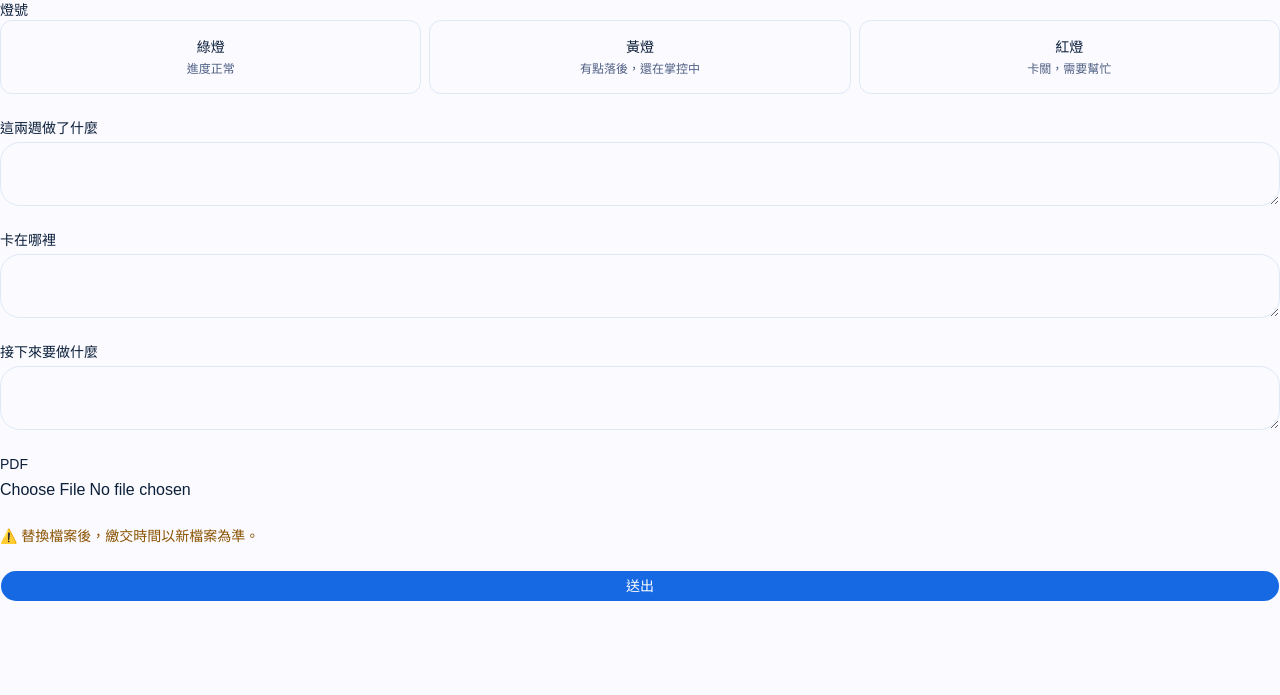
Test: ProgressForm › 沒填齊時按『送出』，各欄顯示錯誤，不呼叫 requestPdfUpload
Click the button "送出" at [640, 586], box [0,570,1279,602]
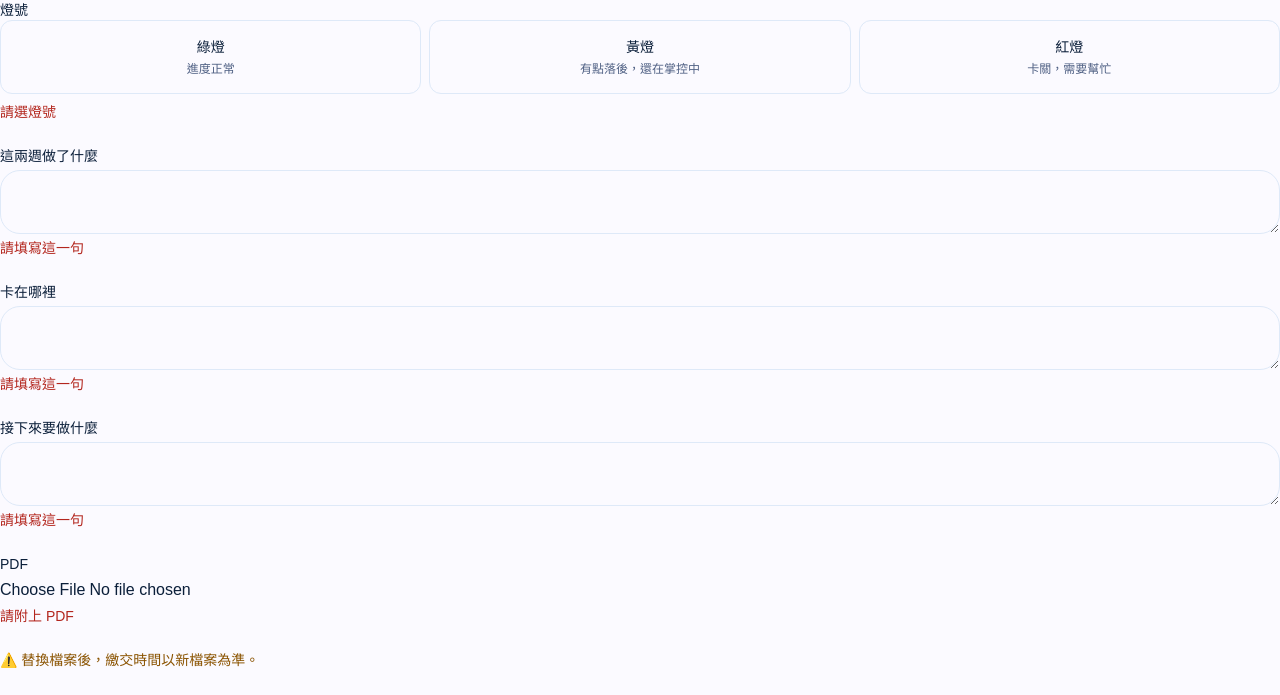
expect the text "請選燈號" is shown: met, box [0,104,56,120]
expect the text "請附上 PDF" is shown: met, box [0,608,74,624]
